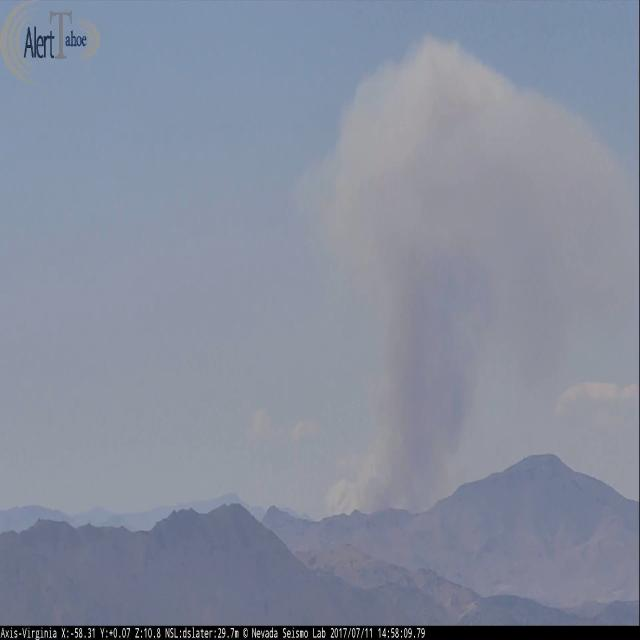smoke: (306, 38, 640, 523)
